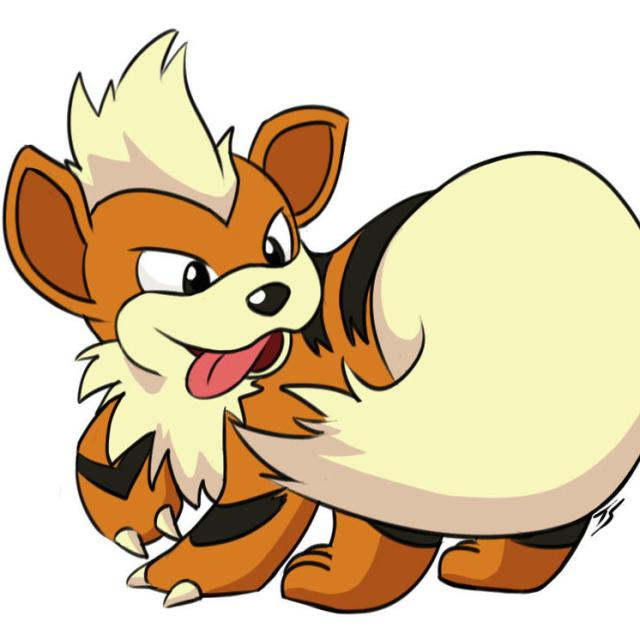Growlithe: (0, 20, 640, 622)
